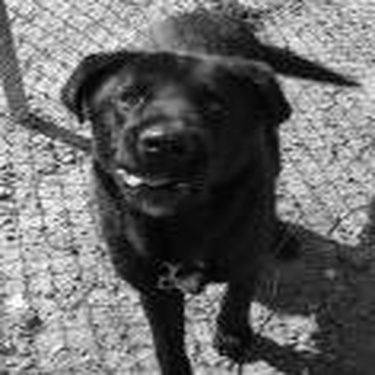dog: (51, 5, 361, 373)
